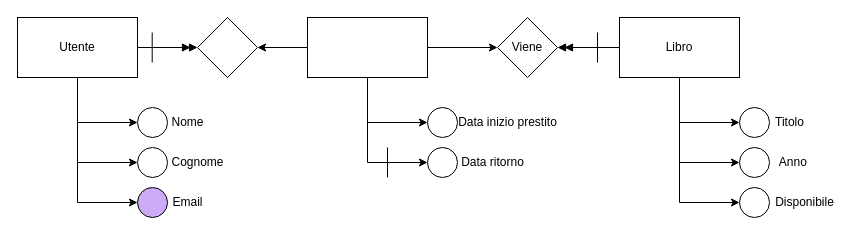
Image size: 862x235. Some labels were removed from this diagram. Here are the shapes that lost their labels. From the top down, the centre of each, then its label:
At pixel 227 47: "Effettua".
At pixel 367 47: "Prestito".
